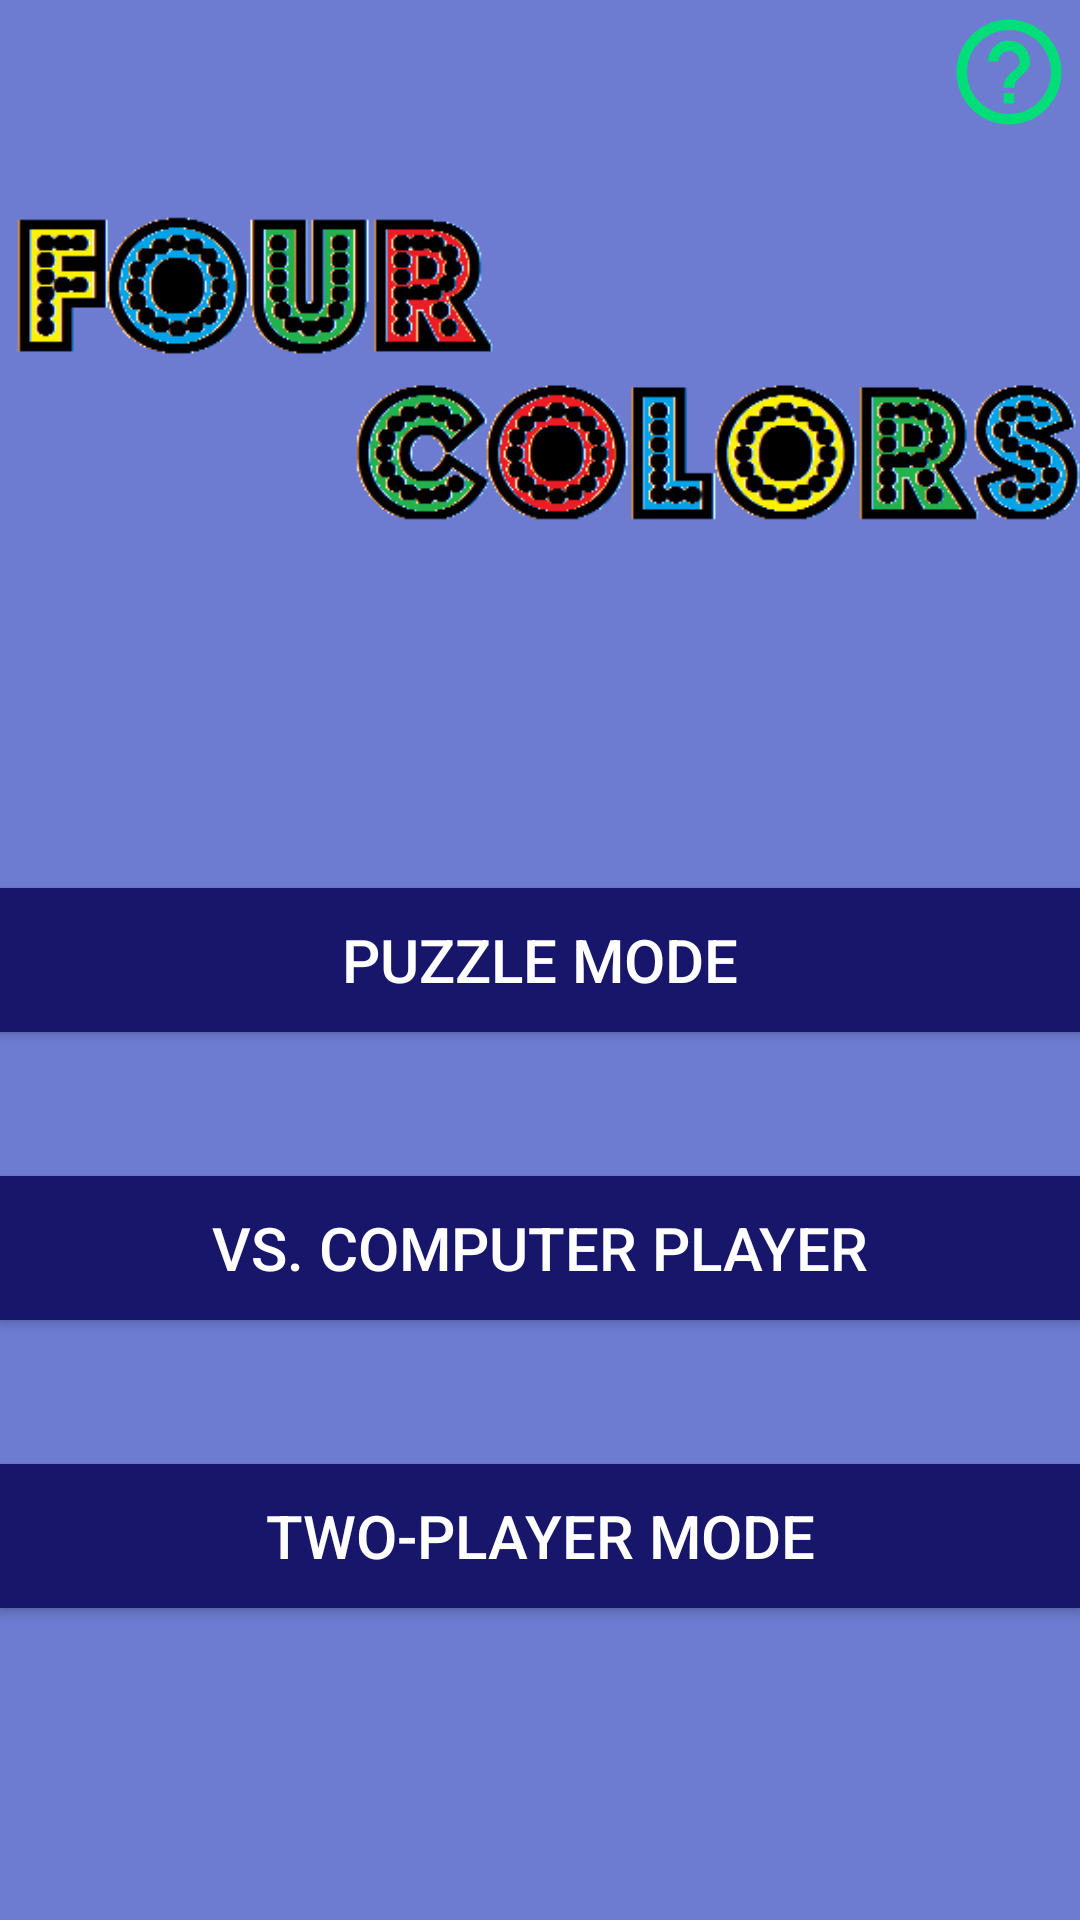

Locate icon controls on the screen. Image size 1080×1920, boxes as (x1,y1,x2,y2).
Help Button: (956,19,1062,125)
